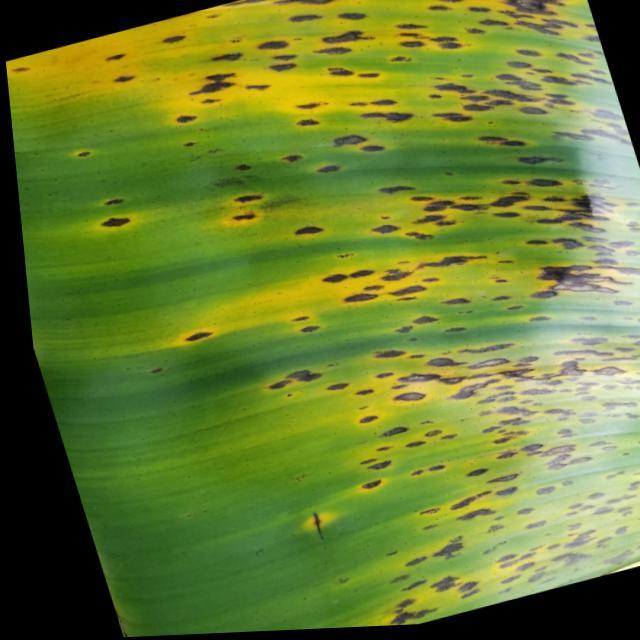Early_rust: (6, 1, 640, 640)
